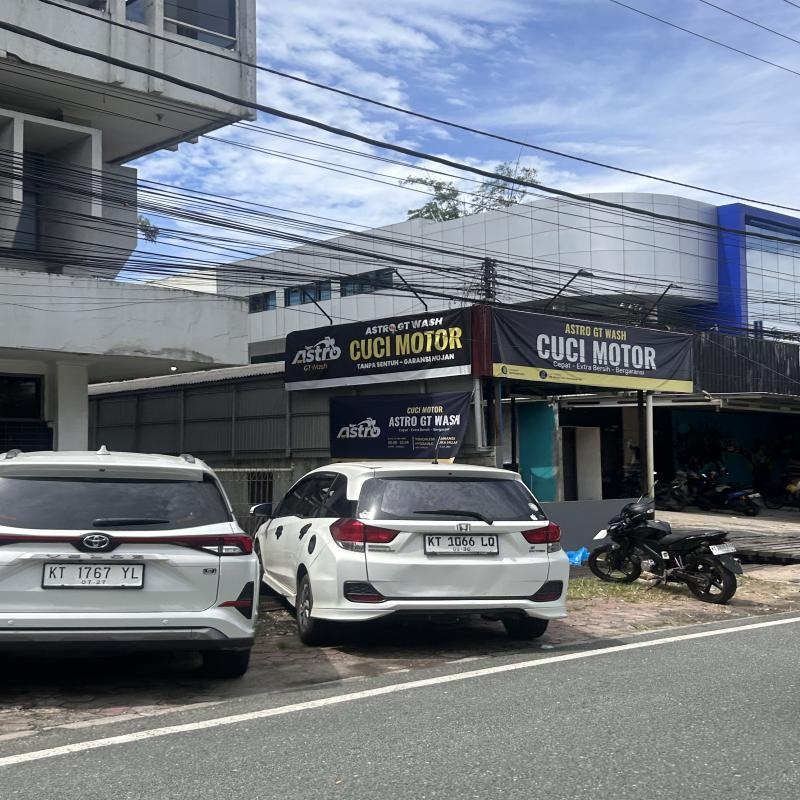license plate on a car: (41, 561, 144, 587), (43, 562, 143, 588), (424, 534, 501, 555)
